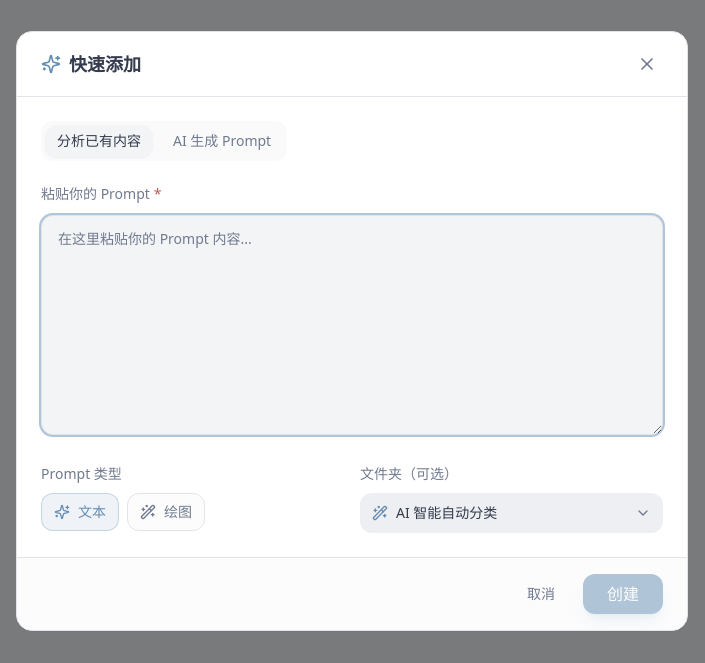
Test: QuickAddModal › switches to AI generate mode and updates the prompt request copy
This screenshot has width=705, height=663.
Expected: the button "分析已有内容" is shown, [45, 125, 153, 157]
Expected: the text box labelled "粘贴你的 Prompt" is shown, [41, 215, 663, 435]
Click the button "AI 生成 Prompt" at (222, 141), box [161, 125, 283, 157]
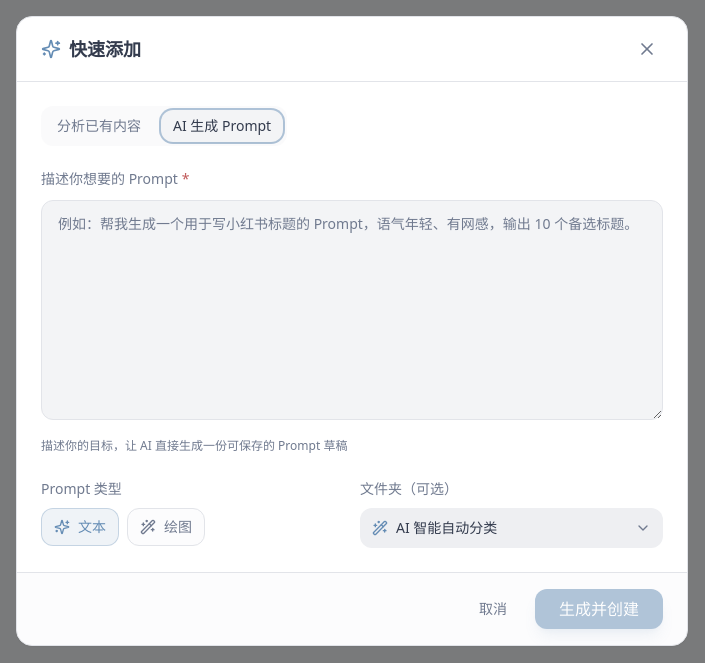
Expected: the text "描述你想要的 Prompt" is shown, [41, 169, 178, 188]
Expected: the text box with placeholder "例如：帮我生成一个用于写小红书标题的 Prompt，语气年轻、有网感，输出 10 个备选标题。" is shown, [41, 200, 663, 420]
Expected: the button "生成并创建" is shown, [535, 589, 663, 629]
